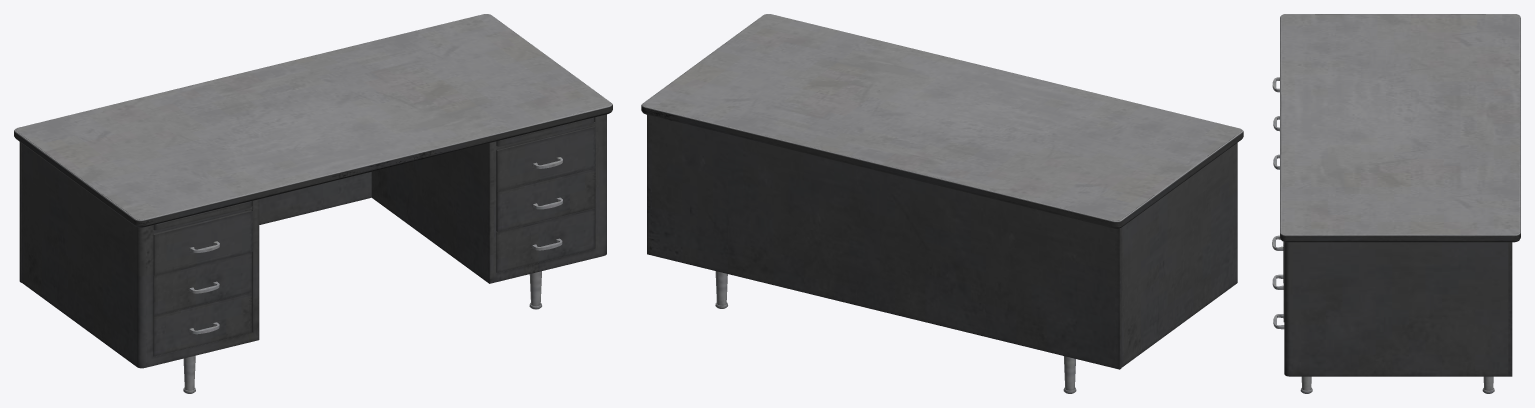
Rendered from ph_office_desk.gltf.
3 renders of one model, left to right at view 1: azimuth 30°, elevation 25°; view 2: azimuth 150°, elevation 25°; view 3: azimuth 270°, elevation 25°, orthographic. The views are drawn at different scales.
Visible parts, largest first — view 1: Body; view 2: Body; view 3: Body.
Boxes of the visible parts, bbox=[...] form: Body: bbox=[14, 14, 612, 393]; Body: bbox=[641, 14, 1243, 393]; Body: bbox=[1272, 14, 1520, 393].
Size of the model in its own units: 2 by 0.7875 by 0.9472.
1 material, 1 textured.
